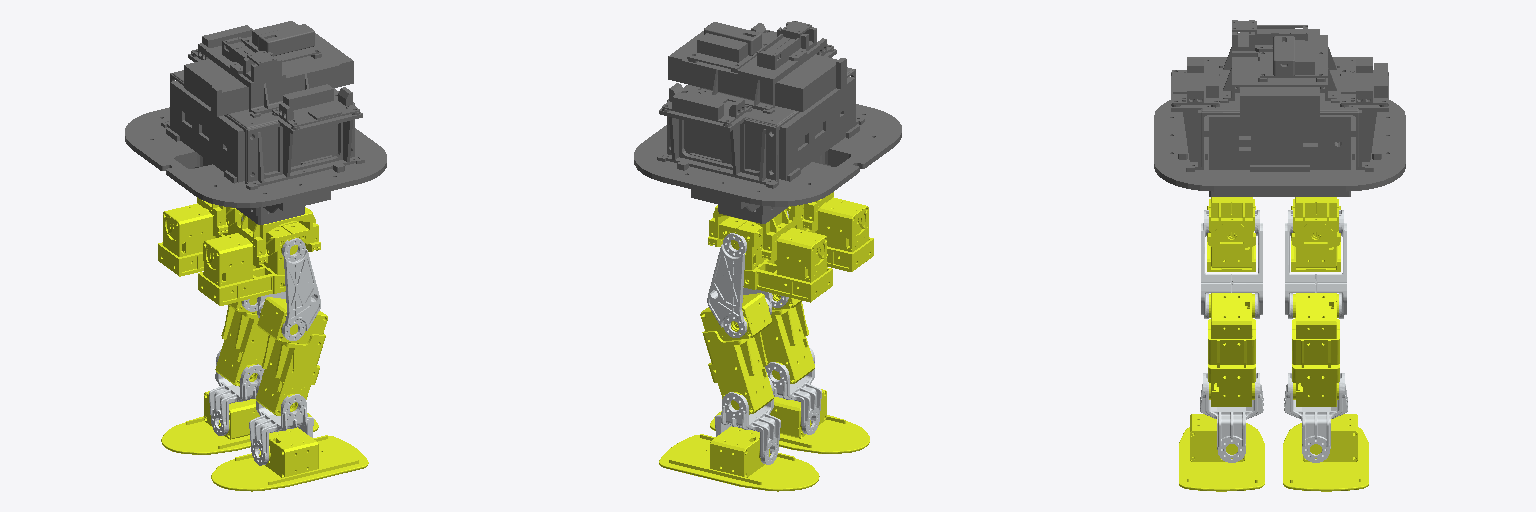
The robot description file, URDF, robot "exhx5_w_b_16":
<?xml version="1.0" encoding="utf-8"?>
<!-- This URDF was automatically created by SolidWorks to URDF Exporter! Originally created by [author] ([email redacted]) 
     Commit Version: 1.5.1-0-g916b5db  Build Version: 1.5.7152.31018
     For more information, please see http://wiki.ros.org/sw_urdf_exporter -->
<robot
  name="exhx5_w_b_16">
  <link
    name="body_link">
    <inertial>
      <origin
        xyz="0.00043545 0.00025536 0.10071"
        rpy="0 0 0" />
      <mass
        value="1.8238" />
      <inertia
        ixx="0.0025905"
        ixy="-5.6852E-06"
        ixz="-1.3106E-05"
        iyy="0.0024595"
        iyz="-1.261E-06"
        izz="0.0046407" />
    </inertial>
    <visual>
      <origin
        xyz="0 0 0"
        rpy="0 0 0" />
      <geometry>
        <mesh
          filename="../meshes/body_link.STL" />
      </geometry>
      <material
        name="">
        <color
          rgba="0.49804 0.49804 0.49804 1" />
      </material>
    </visual>
    <collision>
      <origin
        xyz="0 0 0"
        rpy="0 0 0" />
      <geometry>
        <mesh
          filename="../meshes/body_link.STL" />
      </geometry>
    </collision>
  </link>

  <link
    name="imu_link">
    <inertial>
      <origin
        xyz="-0.008387 1.336E-17 -0.0069463"
        rpy="0 0 0" />
      <mass
        value="0.0062931" />
      <inertia
        ixx="3.2242E-07"
        ixy="3.3527E-22"
        ixz="-6.9193E-08"
        iyy="9.2229E-07"
        iyz="-8.0392E-22"
        izz="1.1018E-06" />
    </inertial>
    <visual>
      <origin
        xyz="0 0 0"
        rpy="0 0 0" />
      <geometry>
        <mesh
          filename="../meshes/imu_link.STL" />
      </geometry>
      <material
        name="">
        <color
          rgba="0.79216 0.81961 0.93333 1" />
      </material>
    </visual>
    <collision>
      <origin
        xyz="0 0 0"
        rpy="0 0 0" />
      <geometry>
        <mesh
          filename="../meshes/imu_link.STL" />
      </geometry>
    </collision>
  </link>
  <joint
    name="imu"
    type="fixed">
    <origin
      xyz="0 0 0.0492"
      rpy="0 0 0" />
    <parent
      link="body_link" />
    <child
      link="imu_link" />
    <axis
      xyz="0 0 0" />
    <limit
      lower="-3.14"
      upper="3.14"
      effort="4"
      velocity="4" />
  </joint>
  <link
    name="l_hip_g_link">
    <inertial>
      <origin
        xyz="-0.0043797 -8.6604E-08 0.011813"
        rpy="0 0 0" />
      <mass
        value="0.061008" />
      <inertia
        ixx="1.167E-05"
        ixy="7.1767E-11"
        ixz="9.1442E-09"
        iyy="2.2342E-05"
        iyz="2.5177E-11"
        izz="2.4892E-05" />
    </inertial>
    <visual>
      <origin
        xyz="0 0 0"
        rpy="0 0 0" />
      <geometry>
        <mesh
          filename="../meshes/l_hip_g_link.STL" />
      </geometry>
      <material
        name="">
        <color
          rgba="0.9451 1 0.18431 1" />
      </material>
    </visual>
    <collision>
      <origin
        xyz="0 0 0"
        rpy="0 0 0" />
      <geometry>
        <mesh
          filename="../meshes/l_hip_g_link.STL" />
      </geometry>
    </collision>
  </link>
  <joint
    name="l_hip_g"
    type="fixed">
    <origin
      xyz="-.002 .030 0"
      rpy="0 0 0" />
    <parent
      link="body_link" />
    <child
      link="l_hip_g_link" />
    <axis
      xyz="0 0 0" />
  </joint>
  <link
    name="l_hip_roll_link">
    <inertial>
      <origin
        xyz="0.013831 0.00033457 0.025453"
        rpy="0 0 0" />
      <mass
        value="0.2969" />
      <inertia
        ixx="7.8136E-05"
        ixy="7.265E-07"
        ixz="-6.9809E-08"
        iyy="9.2183E-05"
        iyz="-5.6881E-11"
        izz="7.1034E-05" />
    </inertial>
    <visual>
      <origin
        xyz="0 0 0"
        rpy="0 0 0" />
      <geometry>
        <mesh
          filename="../meshes/l_hip_roll_link.STL" />
      </geometry>
      <material
        name="">
        <color
          rgba="0.9451 1 0.18431 1" />
      </material>
    </visual>
    <collision>
      <origin
        xyz="0 0 0"
        rpy="0 0 0" />
      <geometry>
        <mesh
          filename="../meshes/l_hip_roll_link.STL" />
      </geometry>
    </collision>
  </link>
  <joint
    name="l_hip_roll"
    type="revolute">
    <origin
      xyz="0 0 0"
      rpy="3.1416 1.5708 0" />
    <parent
      link="l_hip_g_link" />
    <child
      link="l_hip_roll_link" />
    <axis
      xyz="0 0 1" />
    <limit
      lower="-3.14"
      upper="3.14"
      effort="4"
      velocity="4" />
  </joint>
  <link
    name="l_hip_pitch_link">
    <inertial>
      <origin
        xyz="0.041225 -0.007321 -5.0713E-08"
        rpy="0 0 0" />
      <mass
        value="0.051592" />
      <inertia
        ixx="2.7959E-05"
        ixy="2.0752E-06"
        ixz="-8.0934E-11"
        iyy="4.8156E-05"
        iyz="3.6317E-11"
        izz="2.9604E-05" />
    </inertial>
    <visual>
      <origin
        xyz="0 0 0"
        rpy="0 0 0" />
      <geometry>
        <mesh
          filename="../meshes/l_hip_pitch_link.STL" />
      </geometry>
      <material
        name="">
        <color
          rgba="0.89804 0.91765 0.92941 1" />
      </material>
    </visual>
    <collision>
      <origin
        xyz="0 0 0"
        rpy="0 0 0" />
      <geometry>
        <mesh
          filename="../meshes/l_hip_pitch_link.STL" />
      </geometry>
    </collision>
  </link>
  <joint
    name="l_hip_pitch"
    type="revolute">
    <origin
      xyz="0 0 0"
      rpy="1.5708 0 0" />
    <parent
      link="l_hip_roll_link" />
    <child
      link="l_hip_pitch_link" />
    <axis
      xyz="0 0 1" />
    <limit
      lower="-3.14"
      upper="3.14"
      effort="4"
      velocity="4" />
  </joint>
  <link
    name="l_knee_link">
    <inertial>
      <origin
        xyz="0.033756 -0.0084189 -6.6115E-09"
        rpy="0 0 0" />
      <mass
        value="0.28878" />
      <inertia
        ixx="6.6724E-05"
        ixy="7.5004E-07"
        ixz="-8.4578E-07"
        iyy="6.5699E-05"
        iyz="4.1085E-07"
        izz="7.0381E-05" />
    </inertial>
    <visual>
      <origin
        xyz="0 0 0"
        rpy="0 0 0" />
      <geometry>
        <mesh
          filename="../meshes/l_knee_link.STL" />
      </geometry>
      <material
        name="">
        <color
          rgba="0.9451 1 0.18431 1" />
      </material>
    </visual>
    <collision>
      <origin
        xyz="0 0 0"
        rpy="0 0 0" />
      <geometry>
        <mesh
          filename="../meshes/l_knee_link.STL" />
      </geometry>
    </collision>
  </link>
  <joint
    name="l_knee"
    type="revolute">
    <origin
      xyz="0.075954 0 0"
      rpy="0 0 0" />
    <parent
      link="l_hip_pitch_link" />
    <child
      link="l_knee_link" />
    <axis
      xyz="0 0 1" />
    <limit
      lower="-3.14"
      upper="3.14"
      effort="4"
      velocity="4" />
  </joint>
  <link
    name="l_ank_pitch_link">
    <inertial>
      <origin
        xyz="0.022786 -7.3909E-09 -7.1981E-06"
        rpy="0 0 0" />
      <mass
        value="0.044772" />
      <inertia
        ixx="1.777E-05"
        ixy="8.555E-14"
        ixz="-3.3713E-09"
        iyy="1.7119E-05"
        iyz="1.7593E-11"
        izz="1.8661E-05" />
    </inertial>
    <visual>
      <origin
        xyz="0 0 0"
        rpy="0 0 0" />
      <geometry>
        <mesh
          filename="../meshes/l_ank_pitch_link.STL" />
      </geometry>
      <material
        name="">
        <color
          rgba="0.89804 0.91765 0.92941 1" />
      </material>
    </visual>
    <collision>
      <origin
        xyz="0 0 0"
        rpy="0 0 0" />
      <geometry>
        <mesh
          filename="../meshes/l_ank_pitch_link.STL" />
      </geometry>
    </collision>
  </link>
  <joint
    name="l_ank_pitch"
    type="revolute">
    <origin
      xyz="0.074602 0 0"
      rpy="3.1416 0 0" />
    <parent
      link="l_knee_link" />
    <child
      link="l_ank_pitch_link" />
    <axis
      xyz="0 0 1" />
    <limit
      lower="-3.14"
      upper="3.14"
      effort="4"
      velocity="4" />
  </joint>
  <link
    name="l_ank_roll_link">
    <inertial>
      <origin
        xyz="0.0047069 0.010728 0.0015299"
        rpy="0 0 0" />
      <mass
        value="0.16774" />
      <inertia
        ixx="0.00012039"
        ixy="-3.7428E-09"
        ixz="4.4069E-08"
        iyy="8.7735E-05"
        iyz="7.0469E-07"
        izz="4.7866E-05" />
    </inertial>
    <visual>
      <origin
        xyz="0 0 0"
        rpy="0 0 0" />
      <geometry>
        <mesh
          filename="../meshes/l_ank_roll_link.STL" />
      </geometry>
      <material
        name="">
        <color
          rgba="0.9451 1 0.18431 1" />
      </material>
    </visual>
    <collision>
      <origin
        xyz="0 0 0"
        rpy="0 0 0" />
      <geometry>
        <mesh
          filename="../meshes/l_ank_roll_link.STL" />
      </geometry>
    </collision>
  </link>
  <joint
    name="l_ank_roll"
    type="revolute">
    <origin
      xyz="0.0465 0 0"
      rpy="-1.5708 0 0" />
    <parent
      link="l_ank_pitch_link" />
    <child
      link="l_ank_roll_link" />
    <axis
      xyz="0 0 1" />
    <limit
      lower="-3.14"
      upper="3.14"
      effort="4"
      velocity="4" />
  </joint>
  <link
    name="r_hip_g_link">
    <inertial>
      <origin
        xyz="-0.0043797 -8.6604E-08 0.011813"
        rpy="0 0 0" />
      <mass
        value="0.061008" />
      <inertia
        ixx="1.167E-05"
        ixy="7.1767E-11"
        ixz="9.1442E-09"
        iyy="2.2342E-05"
        iyz="2.5177E-11"
        izz="2.4892E-05" />
    </inertial>
    <visual>
      <origin
        xyz="0 0 0"
        rpy="0 0 0" />
      <geometry>
        <mesh
          filename="../meshes/r_hip_g_link.STL" />
      </geometry>
      <material
        name="">
        <color
          rgba="0.9451 1 0.18431 1" />
      </material>
    </visual>
    <collision>
      <origin
        xyz="0 0 0"
        rpy="0 0 0" />
      <geometry>
        <mesh
          filename="../meshes/r_hip_g_link.STL" />
      </geometry>
    </collision>
  </link>
  <joint
    name="r_hip_g"
    type="fixed">
    <origin
      xyz="-.002 -.040 0"
      rpy="0 0 0" />
    <parent
      link="body_link" />
    <child
      link="r_hip_g_link" />
    <axis
      xyz="0 0 0" />
  </joint>
  <link
    name="r_hip_roll_link">
    <inertial>
      <origin
        xyz="0.013831 0.00033457 0.025453"
        rpy="0 0 0" />
      <mass
        value="0.2969" />
      <inertia
        ixx="7.8136E-05"
        ixy="7.265E-07"
        ixz="-6.9809E-08"
        iyy="9.2183E-05"
        iyz="-5.6881E-11"
        izz="7.1034E-05" />
    </inertial>
    <visual>
      <origin
        xyz="0 0 0"
        rpy="0 0 0" />
      <geometry>
        <mesh
          filename="../meshes/r_hip_roll_link.STL" />
      </geometry>
      <material
        name="">
        <color
          rgba="0.9451 1 0.18431 1" />
      </material>
    </visual>
    <collision>
      <origin
        xyz="0 0 0"
        rpy="0 0 0" />
      <geometry>
        <mesh
          filename="../meshes/r_hip_roll_link.STL" />
      </geometry>
    </collision>
  </link>
  <joint
    name="r_hip_roll"
    type="revolute">
    <origin
      xyz="0 0 0"
      rpy="3.1416 1.5708 0" />
    <parent
      link="r_hip_g_link" />
    <child
      link="r_hip_roll_link" />
    <axis
      xyz="0 0 1" />
    <limit
      lower="-3.14"
      upper="3.14"
      effort="4"
      velocity="4" />
  </joint>
  <link
    name="r_hip_pitch_link">
    <inertial>
      <origin
        xyz="0.041225 0.007321 5.0713E-08"
        rpy="0 0 0" />
      <mass
        value="0.051592" />
      <inertia
        ixx="2.7959E-05"
        ixy="-2.0752E-06"
        ixz="8.0934E-11"
        iyy="4.8156E-05"
        iyz="3.6317E-11"
        izz="2.9604E-05" />
    </inertial>
    <visual>
      <origin
        xyz="0 0 0"
        rpy="0 0 0" />
      <geometry>
        <mesh
          filename="../meshes/r_hip_pitch_link.STL" />
      </geometry>
      <material
        name="">
        <color
          rgba="0.89804 0.91765 0.92941 1" />
      </material>
    </visual>
    <collision>
      <origin
        xyz="0 0 0"
        rpy="0 0 0" />
      <geometry>
        <mesh
          filename="../meshes/r_hip_pitch_link.STL" />
      </geometry>
    </collision>
  </link>
  <joint
    name="r_hip_pitch"
    type="revolute">
    <origin
      xyz="0 0 0"
      rpy="-1.5708 0 0" />
    <parent
      link="r_hip_roll_link" />
    <child
      link="r_hip_pitch_link" />
    <axis
      xyz="0 0 1" />
    <limit
      lower="-3.14"
      upper="3.14"
      effort="4"
      velocity="4" />
  </joint>
  <link
    name="r_knee_link">
    <inertial>
      <origin
        xyz="0.033757 0.0084176 6.6115E-09"
        rpy="0 0 0" />
      <mass
        value="0.28878" />
      <inertia
        ixx="6.6724E-05"
        ixy="-7.5008E-07"
        ixz="8.458E-07"
        iyy="6.5699E-05"
        iyz="4.1081E-07"
        izz="7.0381E-05" />
    </inertial>
    <visual>
      <origin
        xyz="0 0 0"
        rpy="0 0 0" />
      <geometry>
        <mesh
          filename="../meshes/r_knee_link.STL" />
      </geometry>
      <material
        name="">
        <color
          rgba="0.9451 1 0.18431 1" />
      </material>
    </visual>
    <collision>
      <origin
        xyz="0 0 0"
        rpy="0 0 0" />
      <geometry>
        <mesh
          filename="../meshes/r_knee_link.STL" />
      </geometry>
    </collision>
  </link>
  <joint
    name="r_knee"
    type="revolute">
    <origin
      xyz="0.075954 0 0"
      rpy="0 0 0" />
    <parent
      link="r_hip_pitch_link" />
    <child
      link="r_knee_link" />
    <axis
      xyz="0 0 1" />
    <limit
      lower="-3.14"
      upper="3.14"
      effort="4"
      velocity="4" />
  </joint>
  <link
    name="r_ank_pitch_link">
    <inertial>
      <origin
        xyz="0.025786 -7.3887E-09 -7.1981E-06"
        rpy="0 0 0" />
      <mass
        value="0.044772" />
      <inertia
        ixx="1.777E-05"
        ixy="8.5434E-14"
        ixz="-3.3713E-09"
        iyy="1.7119E-05"
        iyz="1.7592E-11"
        izz="1.8661E-05" />
    </inertial>
    <visual>
      <origin
        xyz="0 0 0"
        rpy="0 0 0" />
      <geometry>
        <mesh
          filename="../meshes/r_ank_pitch_link.STL" />
      </geometry>
      <material
        name="">
        <color
          rgba="0.89804 0.91765 0.92941 1" />
      </material>
    </visual>
    <collision>
      <origin
        xyz="0 0 0"
        rpy="0 0 0" />
      <geometry>
        <mesh
          filename="../meshes/r_ank_pitch_link.STL" />
      </geometry>
    </collision>
  </link>
  <joint
    name="r_ank_pitch"
    type="revolute">
    <origin
      xyz="0.071602 0 0"
      rpy="3.1416 0 0" />
    <parent
      link="r_knee_link" />
    <child
      link="r_ank_pitch_link" />
    <axis
      xyz="0 0 1" />
    <limit
      lower="-3.14"
      upper="3.14"
      effort="4"
      velocity="4" />
  </joint>
  <link
    name="r_ank_roll_link">
    <inertial>
      <origin
        xyz="0.0077069 -0.010728 0.0015299"
        rpy="0 0 0" />
      <mass
        value="0.16774" />
      <inertia
        ixx="0.00012039"
        ixy="3.743E-09"
        ixz="4.407E-08"
        iyy="8.7735E-05"
        iyz="-7.0467E-07"
        izz="4.7866E-05" />
    </inertial>
    <visual>
      <origin
        xyz="0 0 0"
        rpy="0 0 0" />
      <geometry>
        <mesh
          filename="../meshes/r_ank_roll_link.STL" />
      </geometry>
      <material
        name="">
        <color
          rgba="0.9451 1 0.18431 1" />
      </material>
    </visual>
    <collision>
      <origin
        xyz="0 0 0"
        rpy="0 0 0" />
      <geometry>
        <mesh
          filename="../meshes/r_ank_roll_link.STL" />
      </geometry>
    </collision>
  </link>
  <joint
    name="r_ank_roll"
    type="revolute">
    <origin
      xyz="0.0465 0 0"
      rpy="1.5708 0 0" />
    <parent
      link="r_ank_pitch_link" />
    <child
      link="r_ank_roll_link" />
    <axis
      xyz="0 0 1" />
    <limit
      lower="-3.14"
      upper="3.14"
      effort="4"
      velocity="4" />
  </joint>
  <transmission name="r_hip_roll_tran">
    <type>transmission_interface/SimpleTransmission</type>
    <joint name="r_hip_roll">
      <hardwareInterface>hardware_interface/EffortJointInterface</hardwareInterface>
    </joint>
    <actuator name="r_hip_roll_motor">
      <hardwareInterface>hardware_interface/EffortJointInterface</hardwareInterface>
      <mechanicalReduction>1</mechanicalReduction>
    </actuator>
  </transmission>
  <transmission name="r_hip_pitch_tran">
    <type>transmission_interface/SimpleTransmission</type>
    <joint name="r_hip_pitch">
      <hardwareInterface>hardware_interface/EffortJointInterface</hardwareInterface>
    </joint>
    <actuator name="r_hip_pitch_motor">
      <hardwareInterface>hardware_interface/EffortJointInterface</hardwareInterface>
      <mechanicalReduction>1</mechanicalReduction>
    </actuator>
  </transmission>
  <transmission name="r_knee_tran">
    <type>transmission_interface/SimpleTransmission</type>
    <joint name="r_knee">
      <hardwareInterface>hardware_interface/EffortJointInterface</hardwareInterface>
    </joint>
    <actuator name="r_knee_motor">
      <hardwareInterface>hardware_interface/EffortJointInterface</hardwareInterface>
      <mechanicalReduction>1</mechanicalReduction>
    </actuator>
  </transmission>
  <transmission name="r_ank_pitch_tran">
    <type>transmission_interface/SimpleTransmission</type>
    <joint name="r_ank_pitch">
      <hardwareInterface>hardware_interface/EffortJointInterface</hardwareInterface>
    </joint>
    <actuator name="r_ank_pitch_motor">
      <hardwareInterface>hardware_interface/EffortJointInterface</hardwareInterface>
      <mechanicalReduction>1</mechanicalReduction>
    </actuator>
  </transmission>
  <transmission name="r_ank_roll_tran">
    <type>transmission_interface/SimpleTransmission</type>
    <joint name="r_ank_roll">
      <hardwareInterface>hardware_interface/EffortJointInterface</hardwareInterface>
    </joint>
    <actuator name="r_ank_roll_motor">
      <hardwareInterface>hardware_interface/EffortJointInterface</hardwareInterface>
      <mechanicalReduction>1</mechanicalReduction>
    </actuator>
  </transmission>
  <transmission name="l_hip_roll_tran">
    <type>transmission_interface/SimpleTransmission</type>
    <joint name="l_hip_roll">
      <hardwareInterface>hardware_interface/EffortJointInterface</hardwareInterface>
    </joint>
    <actuator name="l_hip_roll_motor">
      <hardwareInterface>hardware_interface/EffortJointInterface</hardwareInterface>
      <mechanicalReduction>1</mechanicalReduction>
    </actuator>
  </transmission>
  <transmission name="l_hip_pitch_tran">
    <type>transmission_interface/SimpleTransmission</type>
    <joint name="l_hip_pitch">
      <hardwareInterface>hardware_interface/EffortJointInterface</hardwareInterface>
    </joint>
    <actuator name="l_hip_pitch_motor">
      <hardwareInterface>hardware_interface/EffortJointInterface</hardwareInterface>
      <mechanicalReduction>1</mechanicalReduction>
    </actuator>
  </transmission>
  <transmission name="l_knee_tran">
    <type>transmission_interface/SimpleTransmission</type>
    <joint name="l_knee">
      <hardwareInterface>hardware_interface/EffortJointInterface</hardwareInterface>
    </joint>
    <actuator name="l_knee_motor">
      <hardwareInterface>hardware_interface/EffortJointInterface</hardwareInterface>
      <mechanicalReduction>1</mechanicalReduction>
    </actuator>
  </transmission>
  <transmission name="l_ank_pitch_tran">
    <type>transmission_interface/SimpleTransmission</type>
    <joint name="l_ank_pitch">
      <hardwareInterface>hardware_interface/EffortJointInterface</hardwareInterface>
    </joint>
    <actuator name="l_ank_pitch_motor">
      <hardwareInterface>hardware_interface/EffortJointInterface</hardwareInterface>
      <mechanicalReduction>1</mechanicalReduction>
    </actuator>
  </transmission>
  <transmission name="l_ank_roll_tran">
    <type>transmission_interface/SimpleTransmission</type>
    <joint name="l_ank_roll">
      <hardwareInterface>hardware_interface/EffortJointInterface</hardwareInterface>
    </joint>
    <actuator name="l_ank_roll_motor">
      <hardwareInterface>hardware_interface/EffortJointInterface</hardwareInterface>
      <mechanicalReduction>1</mechanicalReduction>
    </actuator>
  </transmission>
</robot>

--- Facts derived from the render (not from the file) ---
Views: 3 orthographic renders of the robot side by side, from view 1: azimuth 30°, elevation 25°; view 2: azimuth 150°, elevation 25°; view 3: azimuth 270°, elevation 25°.
Model exhx5_w_b_16 with 14 links and 13 joints (10 revolute, 3 fixed), rooted at body_link, posed every joint at zero.
Links seen in each view (by area): view 1: body_link, r_ank_roll_link, r_hip_roll_link, r_knee_link, l_hip_roll_link, l_ank_roll_link, r_hip_pitch_link, l_knee_link, r_ank_pitch_link, l_ank_pitch_link, r_hip_g_link; view 2: body_link, l_ank_roll_link, l_hip_roll_link, l_knee_link, r_hip_roll_link, r_ank_roll_link, l_hip_pitch_link, r_knee_link, l_ank_pitch_link, r_ank_pitch_link, l_hip_g_link; view 3: body_link, l_knee_link, r_knee_link, l_ank_roll_link, r_ank_roll_link, l_ank_pitch_link, r_ank_pitch_link, r_hip_pitch_link, l_hip_pitch_link, l_hip_g_link, r_hip_g_link, l_hip_roll_link (+1 smaller).
Link boxes in pixels (x1=…): body_link: x1=125, y1=21, x2=386, y2=224; r_ank_roll_link: x1=211, y1=427, x2=368, y2=491; r_hip_roll_link: x1=198, y1=221, x2=309, y2=305; r_knee_link: x1=256, y1=297, x2=327, y2=415; l_hip_roll_link: x1=158, y1=203, x2=242, y2=276; l_ank_roll_link: x1=161, y1=391, x2=318, y2=454; r_hip_pitch_link: x1=257, y1=238, x2=320, y2=340; l_knee_link: x1=215, y1=297, x2=268, y2=386; r_ank_pitch_link: x1=249, y1=379, x2=313, y2=465; l_ank_pitch_link: x1=209, y1=350, x2=264, y2=435; r_hip_g_link: x1=237, y1=207, x2=320, y2=265; body_link: x1=634, y1=21, x2=901, y2=223; l_ank_roll_link: x1=659, y1=426, x2=819, y2=491; l_hip_roll_link: x1=719, y1=216, x2=832, y2=302; l_knee_link: x1=700, y1=293, x2=773, y2=414; r_hip_roll_link: x1=787, y1=197, x2=873, y2=271; r_ank_roll_link: x1=710, y1=389, x2=869, y2=453; l_hip_pitch_link: x1=707, y1=233, x2=771, y2=337; r_knee_link: x1=761, y1=293, x2=814, y2=383; l_ank_pitch_link: x1=715, y1=377, x2=780, y2=464; r_ank_pitch_link: x1=765, y1=347, x2=821, y2=434; l_hip_g_link: x1=708, y1=205, x2=792, y2=260; body_link: x1=1154, y1=20, x2=1405, y2=196; l_knee_link: x1=1292, y1=293, x2=1339, y2=406; r_knee_link: x1=1208, y1=293, x2=1255, y2=406; l_ank_roll_link: x1=1283, y1=414, x2=1368, y2=491; r_ank_roll_link: x1=1179, y1=414, x2=1264, y2=491; l_ank_pitch_link: x1=1284, y1=373, x2=1347, y2=462; r_ank_pitch_link: x1=1200, y1=373, x2=1263, y2=462; r_hip_pitch_link: x1=1201, y1=210, x2=1262, y2=318; l_hip_pitch_link: x1=1285, y1=210, x2=1346, y2=318; l_hip_g_link: x1=1291, y1=197, x2=1340, y2=246; r_hip_g_link: x1=1207, y1=197, x2=1255, y2=246; l_hip_roll_link: x1=1291, y1=199, x2=1340, y2=271.
Bounding box of the posed robot: 0.185 × 0.21 × 0.3893 m (x, y, z).
14 mesh visuals loaded from 14 distinct referenced files (14 binary STL).